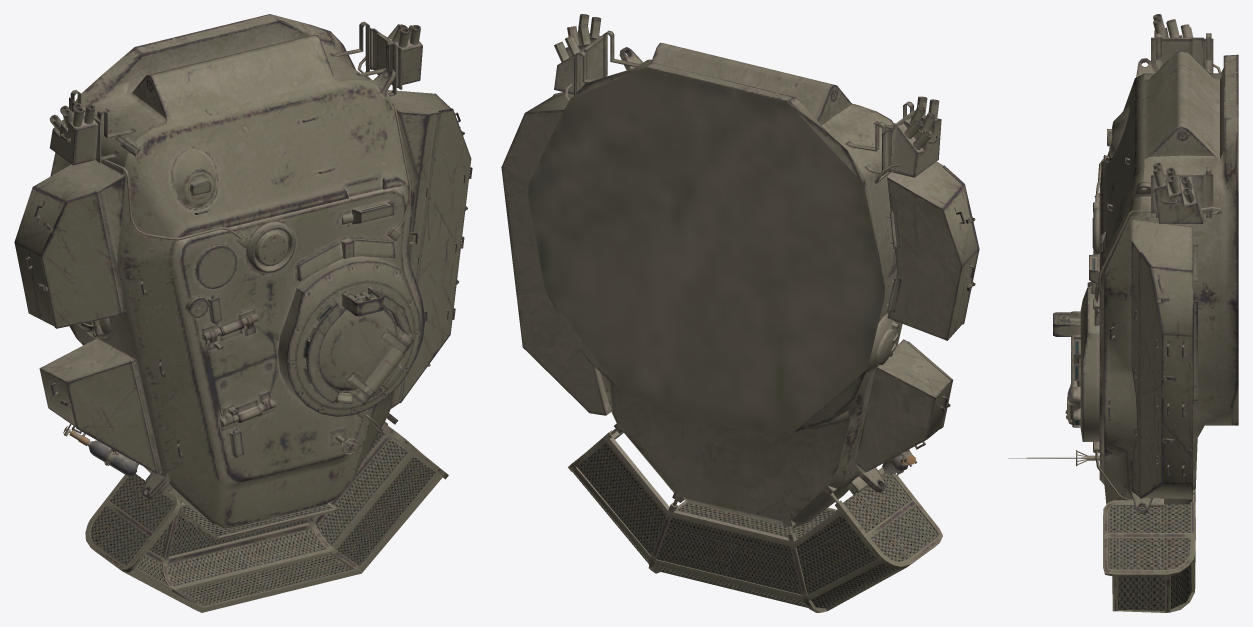
File: Turret_02.glb
The picture shows the model from 3 angles, left to right: view 1: azimuth 30°, elevation 25°; view 2: azimuth 150°, elevation 25°; view 3: azimuth 270°, elevation 25°; orthographic projection. The views are drawn at different scales.
Visible parts, largest first — view 1: set_0_group_0; view 2: set_0_group_0; view 3: set_0_group_0.
Part boxes in pixels (bbox=[...]): set_0_group_0: bbox=[14, 14, 472, 612]; set_0_group_0: bbox=[501, 14, 979, 612]; set_0_group_0: bbox=[1008, 14, 1238, 612].
Size of the model in its own units: 3.33 by 3.7 by 1.59.
1 material, 1 textured.
